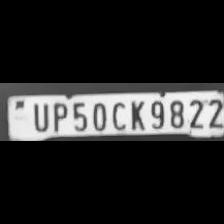0: (89, 100, 107, 130)
2: (186, 96, 204, 130), (204, 96, 222, 130)
5: (68, 100, 88, 132)
8: (166, 97, 184, 129)
9: (146, 97, 166, 129)
C: (109, 100, 127, 130)
K: (126, 98, 146, 130)
P: (48, 100, 68, 132)
U: (28, 100, 50, 132)
